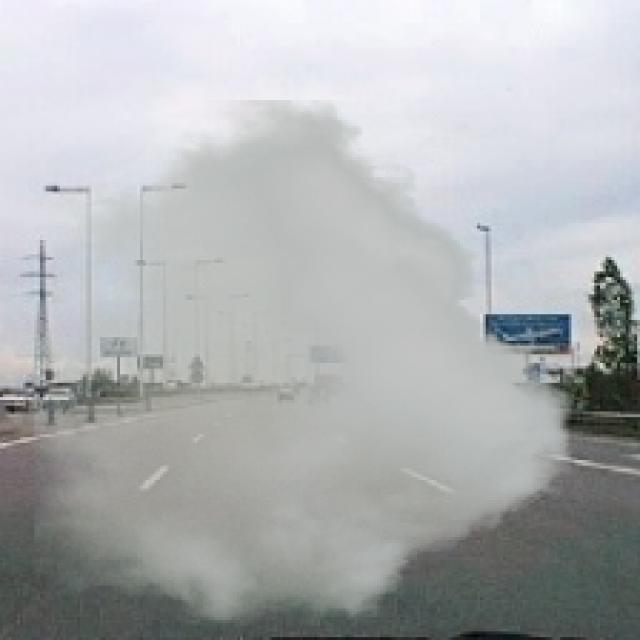Smoke: (34, 100, 572, 626)
